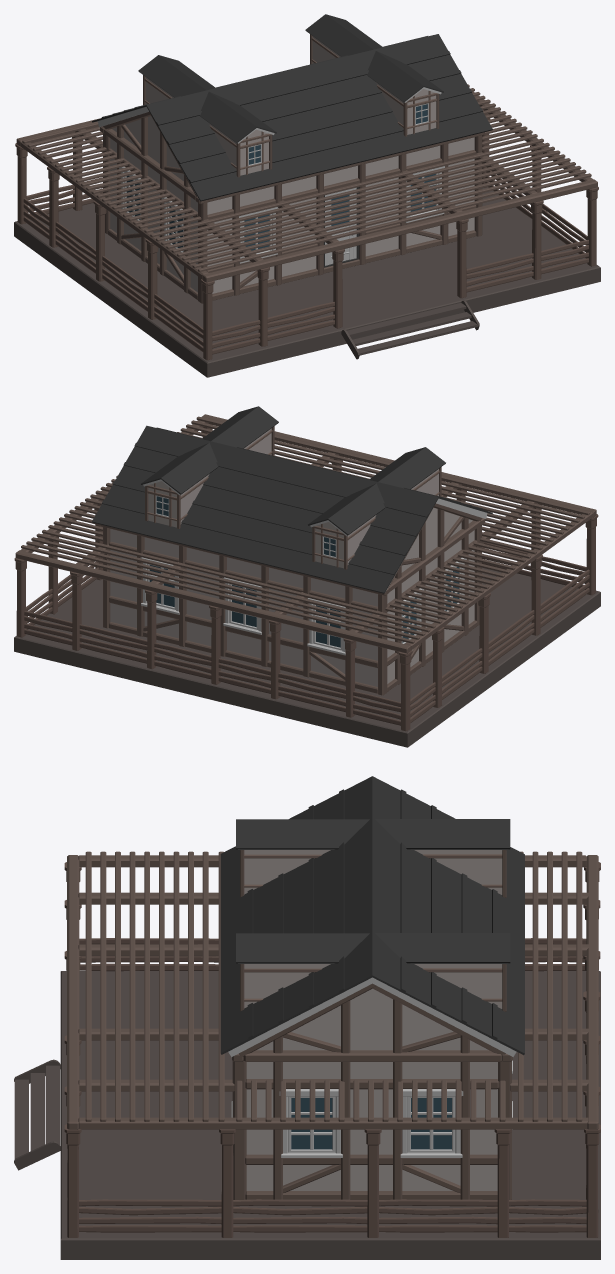
The model's file is house_05.glb.
3 views of the same model, one above another, from view 1: azimuth 30°, elevation 25°; view 2: azimuth 150°, elevation 25°; view 3: azimuth 270°, elevation 25° (orthographic). The views are drawn at different scales.
Visible parts, largest first — view 1: house_05; view 2: house_05; view 3: house_05.
Part boxes in pixels (x1=…): house_05: x1=14, y1=14, x2=600, y2=377; house_05: x1=14, y1=406, x2=600, y2=747; house_05: x1=14, y1=776, x2=600, y2=1259.
Bounding box in the file's own units: 14.35 × 6.34 × 13.24.
Materials: 1 (1 with a texture image).
